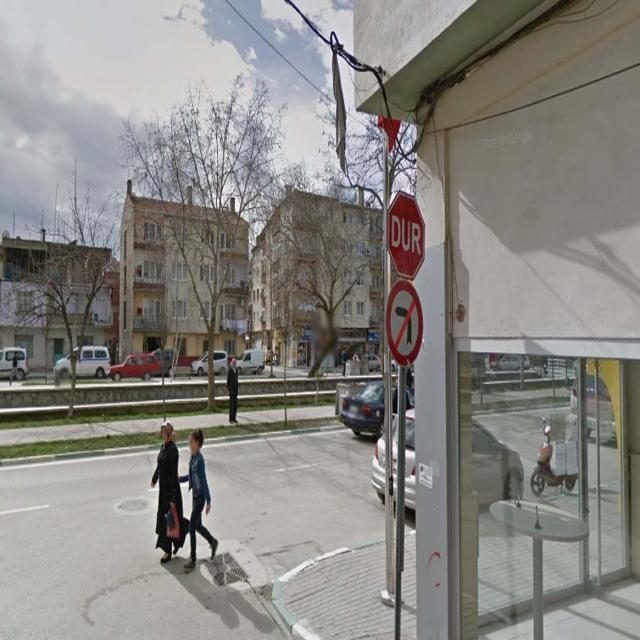dur: (385, 190, 425, 278)
soladonulmez: (386, 280, 423, 364)
